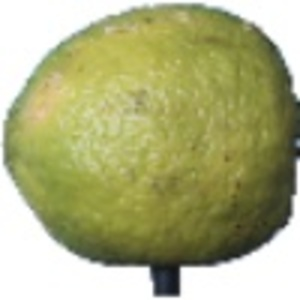limão: (1, 3, 300, 298)
